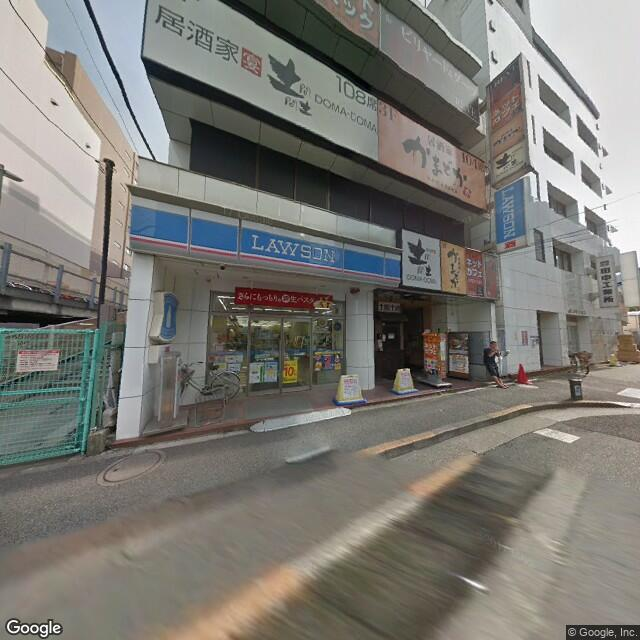lawson: (125, 193, 400, 291), (492, 174, 531, 247)
